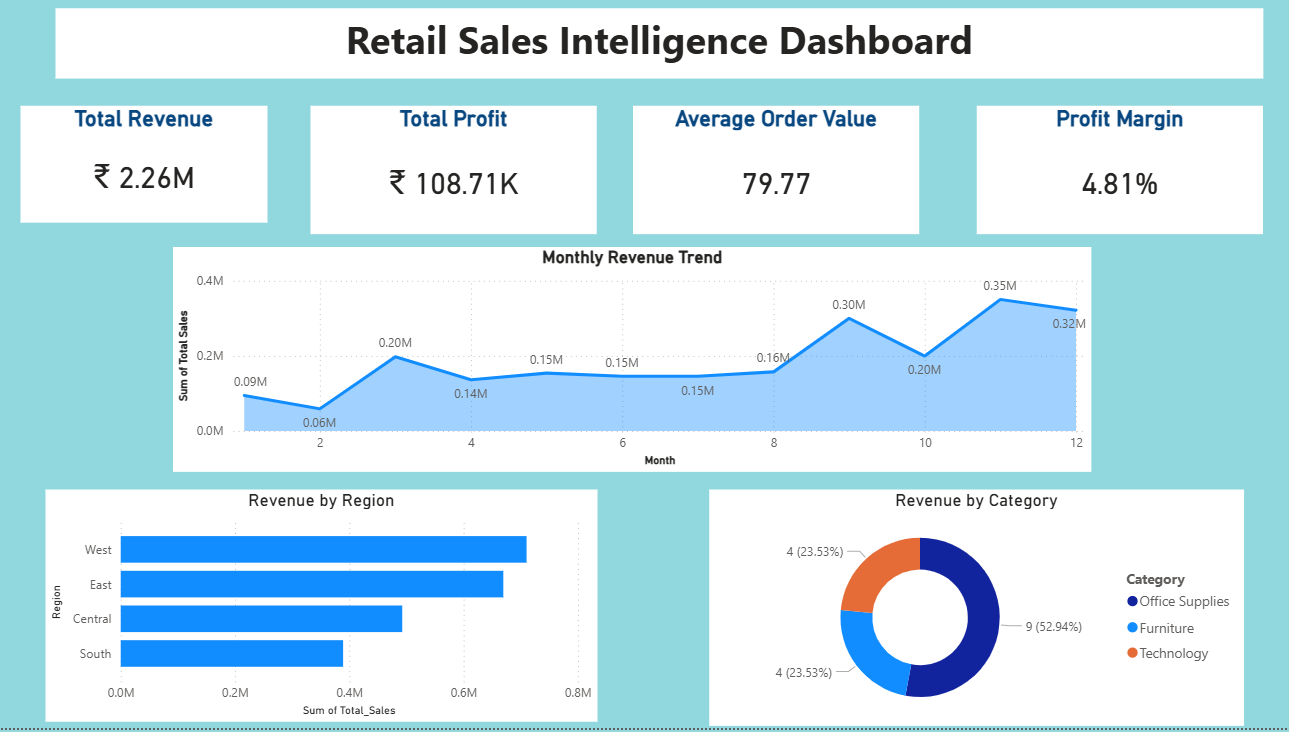

What the dashboard file says about the page in this screenshot:
{"tool":"powerbi","page":{"name":"Executive Overview","canvas":[1280,720],"ordinal":0},"visuals":[{"type":"donutChart","title":"Revenue by Category","fields":{"Category":["category_subcat_performance.Category"],"Y":["CountNonNull(category_subcat_performance.Total_Sales)"]},"box":[705.7,487.1,522.9,231.4],"z":0},{"type":"clusteredBarChart","title":"Revenue by Region","fields":{"Category":["region_sales.Region"],"Y":["Sum(region_sales.Total_Sales)"]},"box":[55.7,487.1,540,227.1],"z":1000},{"type":"lineChart","title":"Monthly Revenue Trend","fields":{"Category":["monthly_sales.Month"],"Y":["Sum(monthly_sales.Total_Profit)"]},"box":[181.4,250,898.6,220],"z":2000},{"type":"card","title":"Total Revenue","fields":{"Values":["Sum(kpi_summary.Value)"]},"box":[31.4,111.4,241.4,114.3],"z":3000},{"type":"card","title":"Total Profit","fields":{"Values":["Sum(kpi_summary.Value)"]},"box":[315.7,111.4,280,125.7],"z":4000},{"type":"card","title":"Average Order Value","fields":{"Values":["Sum(kpi_summary.Value)"]},"box":[631.4,111.4,280,125.7],"z":5000},{"type":"card","title":"Profit Margin","fields":{"Values":["Sum(kpi_summary.Value)"]},"box":[967.1,111.4,280,125.7],"z":6000},{"type":"textbox","box":[65.7,15.7,1181.4,68.6],"z":7000}]}

Visuals, with their boxes in screenshot pixels (x1, y1, x2, y2), scaled from the page's 1280x720 canvas onto the 1289x732 screenshot:
"Revenue by Category" donutChart: region(711, 495, 1237, 730)
"Revenue by Region" clusteredBarChart: region(56, 495, 600, 726)
"Monthly Revenue Trend" lineChart: region(183, 254, 1088, 478)
"Total Revenue" card: region(32, 113, 275, 229)
"Total Profit" card: region(318, 113, 600, 241)
"Average Order Value" card: region(636, 113, 918, 241)
"Profit Margin" card: region(974, 113, 1256, 241)
textbox: region(66, 16, 1256, 86)
